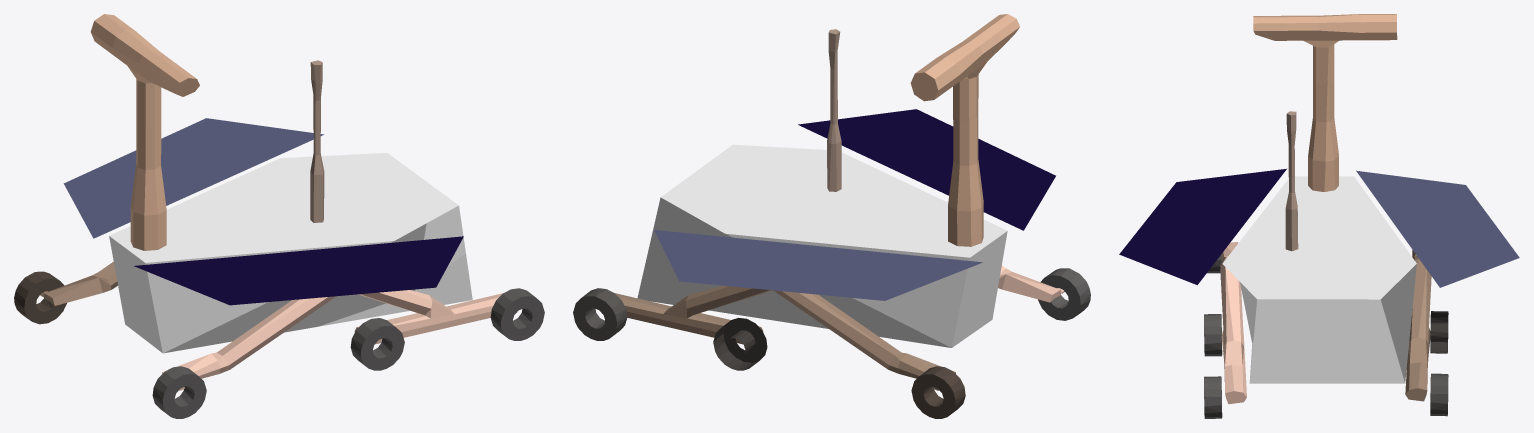
The model's file is rover.glb.
3 views of the same model, side by side, from view 1: azimuth 30°, elevation 25°; view 2: azimuth 150°, elevation 25°; view 3: azimuth 270°, elevation 25° (orthographic). The views are drawn at different scales.
Visible parts, largest first — view 1: idenifier-body, left-solar-panel, left-solar-panel.001, neck, suspension.001, middle-wheel.001, rear-wheel.001, front-wheel.001, front-wheel, antenna, suspension; view 2: idenifier-body, left-solar-panel.001, left-solar-panel, neck, suspension, middle-wheel, front-wheel, rear-wheel, front-wheel.001, antenna, suspension.001; view 3: idenifier-body, left-solar-panel.001, left-solar-panel, neck, suspension.001, suspension, antenna, middle-wheel, rear-wheel, rear-wheel.001, middle-wheel.001.
Boxes of the visible parts, <box> form: idenifier-body: <box>109,152,472,353</box>; left-solar-panel: <box>134,236,463,305</box>; left-solar-panel.001: <box>63,118,323,238</box>; neck: <box>91,14,199,250</box>; suspension.001: <box>162,290,503,390</box>; middle-wheel.001: <box>350,318,404,370</box>; rear-wheel.001: <box>490,288,544,340</box>; front-wheel.001: <box>152,366,206,418</box>; front-wheel: <box>14,271,66,324</box>; antenna: <box>310,60,324,222</box>; suspension: <box>40,262,117,305</box>; idenifier-body: <box>637,144,1007,347</box>; left-solar-panel.001: <box>654,230,982,300</box>; left-solar-panel: <box>798,109,1055,230</box>; neck: <box>910,14,1019,246</box>; suspension: <box>614,285,955,390</box>; middle-wheel: <box>713,317,767,370</box>; front-wheel: <box>911,366,965,418</box>; rear-wheel: <box>573,288,627,340</box>; front-wheel.001: <box>1038,268,1090,320</box>; antenna: <box>827,29,841,191</box>; suspension.001: <box>998,265,1064,302</box>; idenifier-body: <box>1222,176,1416,383</box>; left-solar-panel.001: <box>1356,170,1519,287</box>; left-solar-panel: <box>1119,168,1286,285</box>; neck: <box>1253,14,1397,191</box>; suspension.001: <box>1220,242,1246,404</box>; suspension: <box>1405,250,1431,401</box>; antenna: <box>1285,111,1298,251</box>; middle-wheel: <box>1430,311,1448,353</box>; rear-wheel: <box>1430,373,1448,416</box>; rear-wheel.001: <box>1204,376,1222,418</box>; middle-wheel.001: <box>1204,314,1222,356</box>.
Bounding box in the file's own units: 4.95 × 3.89 × 5.15.
